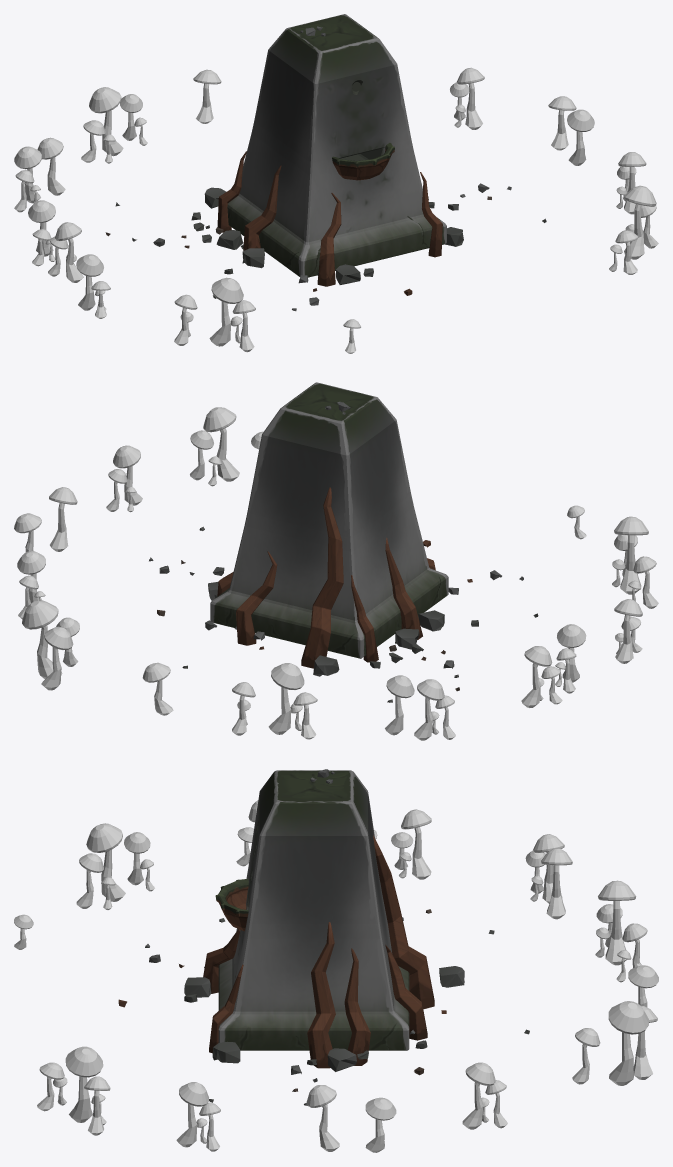
Rendered from statue_blue.fbx.
The picture shows the model from 3 angles, top to bottom: view 1: azimuth 30°, elevation 25°; view 2: azimuth 150°, elevation 25°; view 3: azimuth 270°, elevation 25°; orthographic projection. The views are drawn at different scales.
Parts seen in each view (by area): view 1: statue blue; view 2: statue blue; view 3: statue blue.
Part boxes in pixels (x1=…): statue blue: x1=14, y1=14, x2=658, y2=353; statue blue: x1=14, y1=382, x2=658, y2=740; statue blue: x1=14, y1=769, x2=658, y2=1152.
Size of the model in its own units: 346 by 385 by 143.
